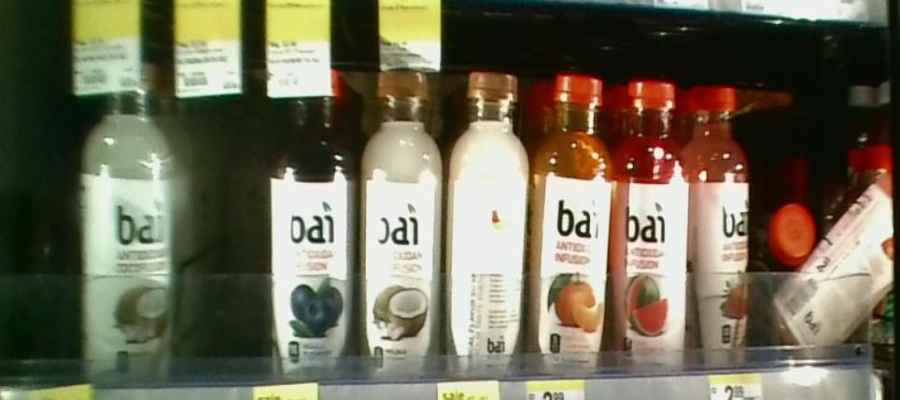bottle: (75, 79, 178, 384), (266, 66, 357, 390), (359, 66, 443, 384), (447, 64, 527, 382), (530, 64, 610, 379), (612, 71, 689, 377), (691, 79, 752, 365), (760, 189, 815, 273)
